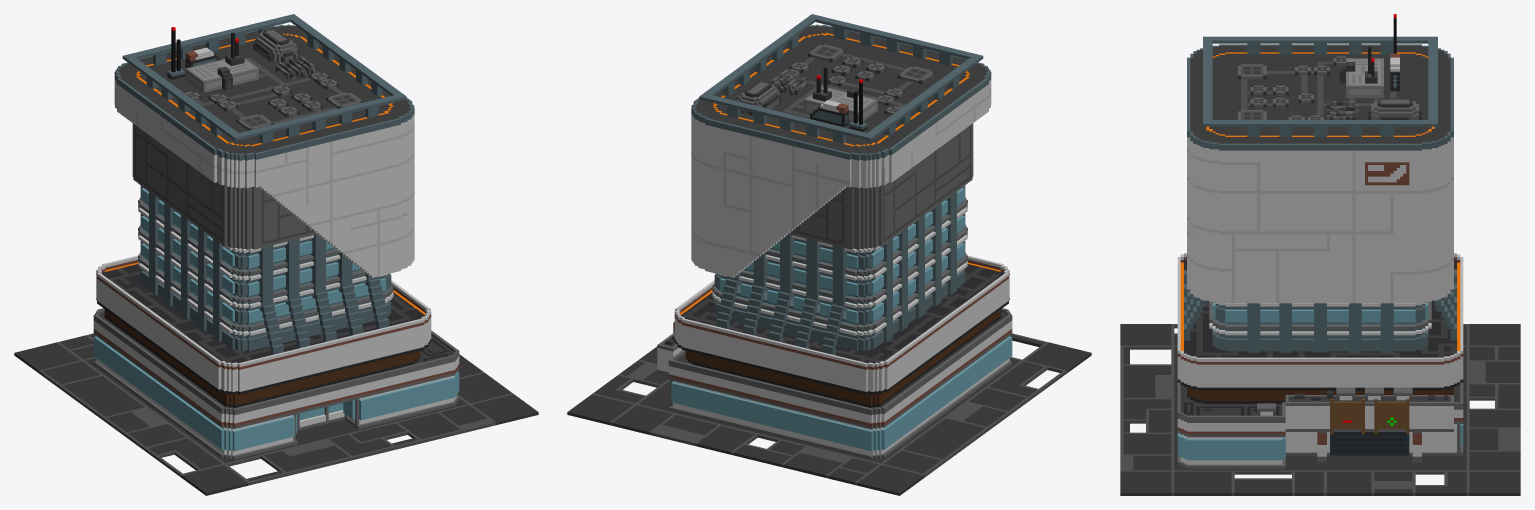
The model's file is VoT_PatrikRoy_b02_sketchfab.obj.
3 renders of one model, left to right at view 1: azimuth 30°, elevation 25°; view 2: azimuth 150°, elevation 25°; view 3: azimuth 270°, elevation 25°, orthographic. The views are drawn at different scales.
Size of the model in its own units: 12.6 by 12.6 by 12.6.
